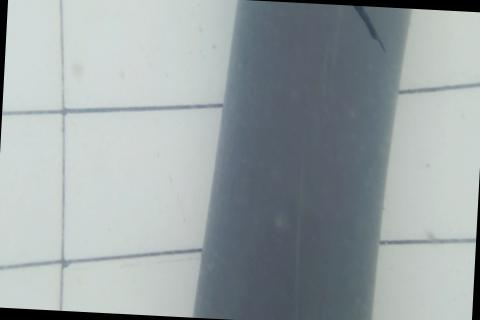keretakan: (344, 5, 390, 56)
